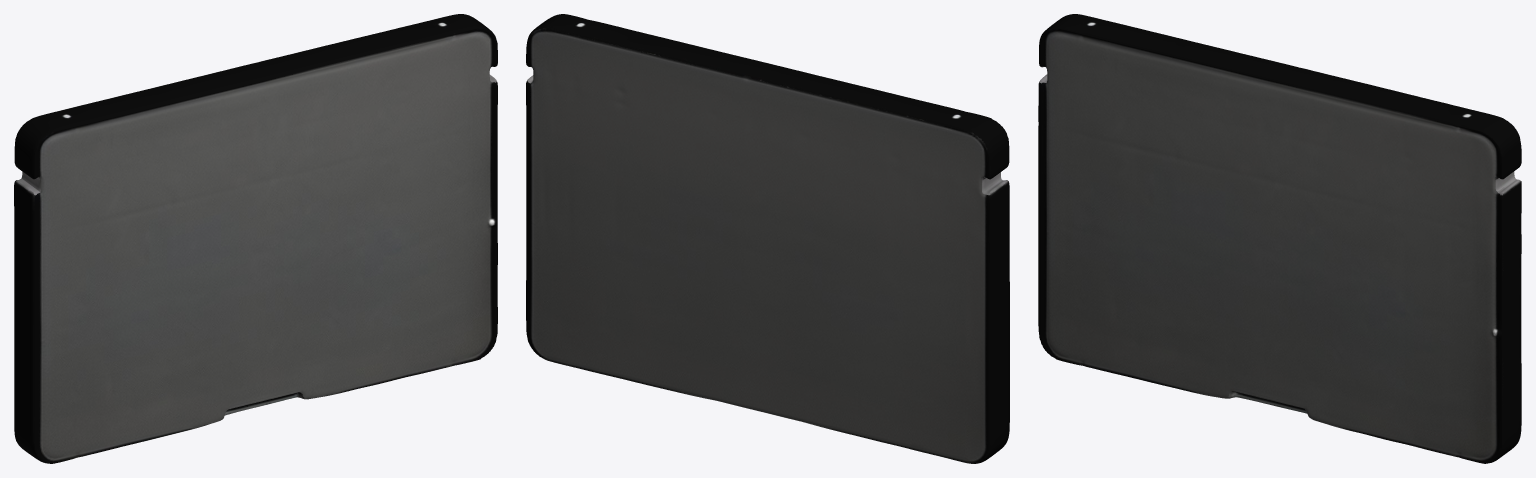
File: trackpad.glb
3 views of the same model, side by side, from view 1: azimuth 30°, elevation 25°; view 2: azimuth 150°, elevation 25°; view 3: azimuth 330°, elevation 25° (orthographic).
Parts seen in each view (by area): view 1: tmpyv5zpc75.ply; view 2: tmpyv5zpc75.ply; view 3: tmpyv5zpc75.ply.
Part boxes in pixels (x1,y1,x2,y2): tmpyv5zpc75.ply: [14, 14, 497, 463]; tmpyv5zpc75.ply: [526, 14, 1009, 463]; tmpyv5zpc75.ply: [1038, 14, 1521, 463].
Size of the model in its own units: 0.9881 by 0.6809 by 0.0785.
1 material, 1 textured.
